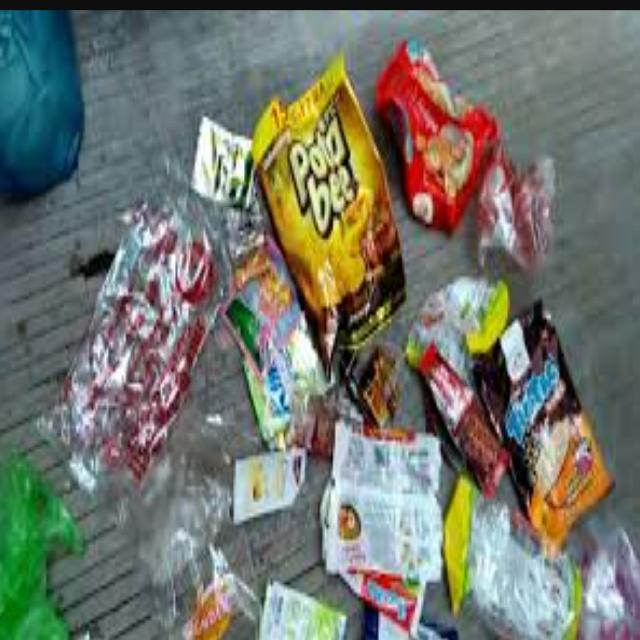KemasanPlastik: (48, 161, 234, 494), (248, 49, 407, 373), (472, 289, 615, 550), (320, 414, 444, 618), (374, 35, 491, 223)
